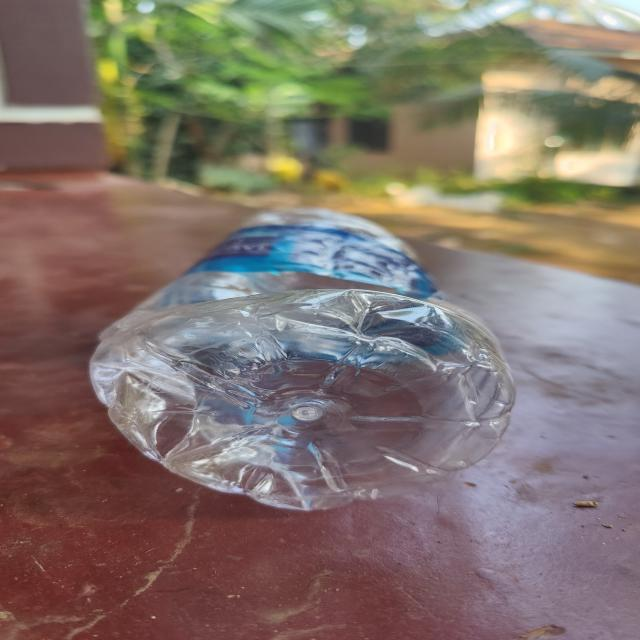plastic: (82, 198, 518, 518)
